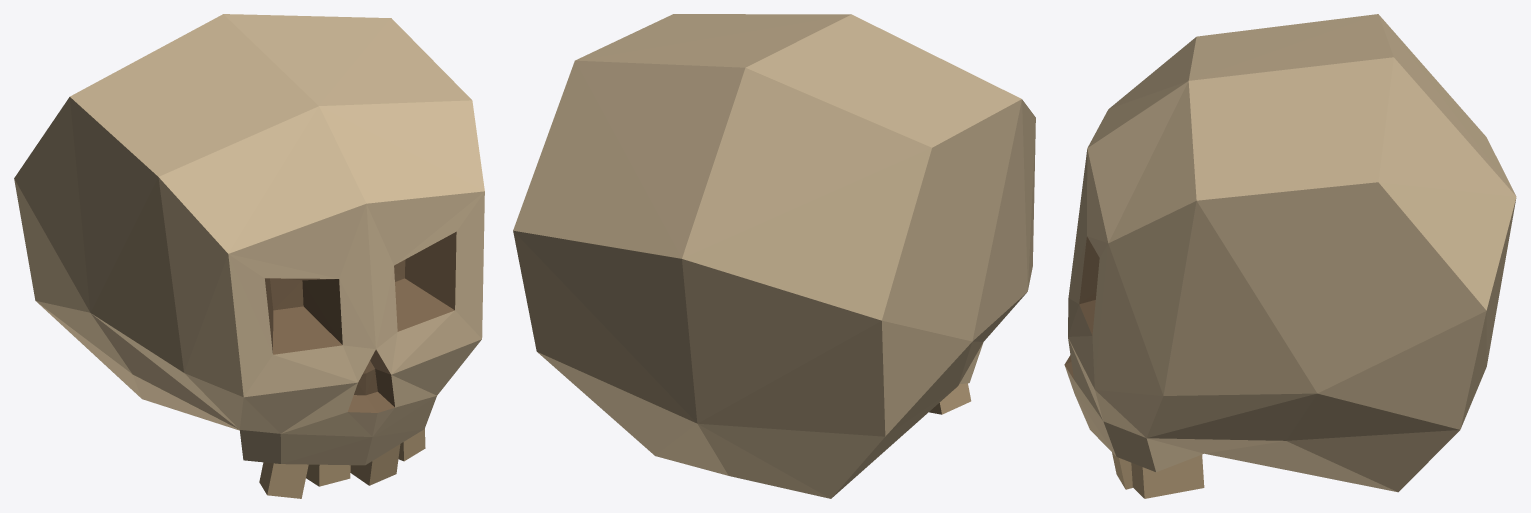
Rendered from SM_Icon_Skull_02.fbx.
3 views of the same model, side by side, from view 1: azimuth 30°, elevation 25°; view 2: azimuth 150°, elevation 25°; view 3: azimuth 270°, elevation 25° (orthographic). The views are drawn at different scales.
Visible parts, largest first — view 1: SM_Icon_Skull_02; view 2: SM_Icon_Skull_02; view 3: SM_Icon_Skull_02.
Boxes of the visible parts, x1,y1,x2,y2 form: SM_Icon_Skull_02: (14,14,484,498); SM_Icon_Skull_02: (513,14,1035,498); SM_Icon_Skull_02: (1064,14,1516,498).
Size of the model in its own units: 42.91 by 46.34 by 46.48.
